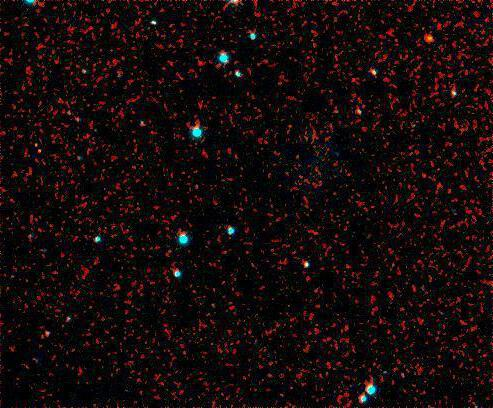star: (415, 24, 445, 54)
